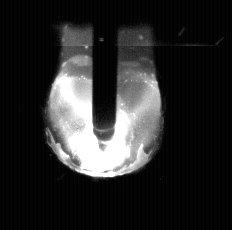arame: (93, 0, 118, 151)
poca: (46, 0, 165, 230)
